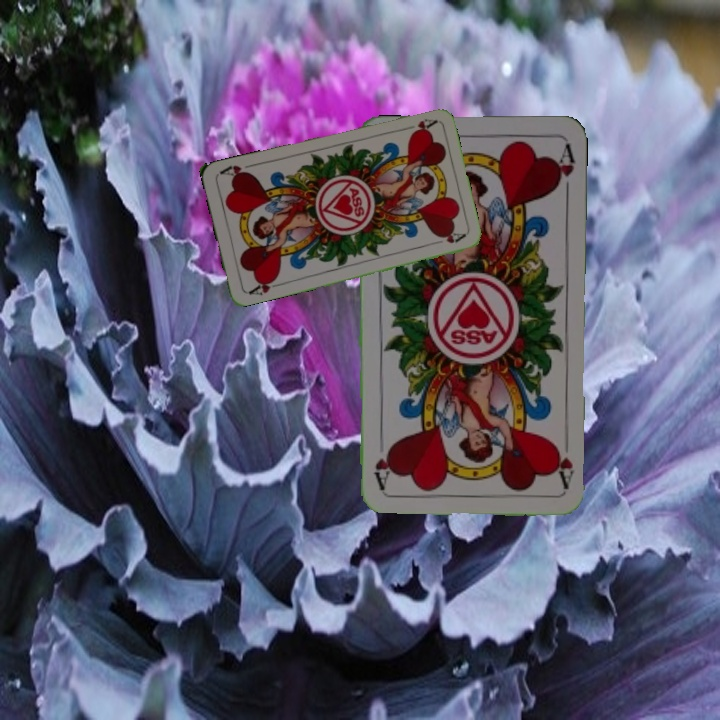HA: (551, 442, 576, 490), (244, 273, 284, 298), (398, 115, 439, 137)
